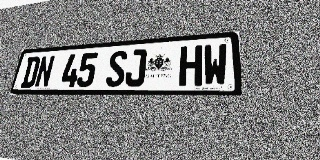4: (60, 53, 82, 87)
5: (76, 52, 98, 87)
D: (20, 56, 41, 88)
H: (179, 45, 203, 86)
J: (124, 49, 147, 87)
N: (34, 55, 55, 88)
S: (105, 50, 128, 87)
W: (203, 43, 228, 86)
